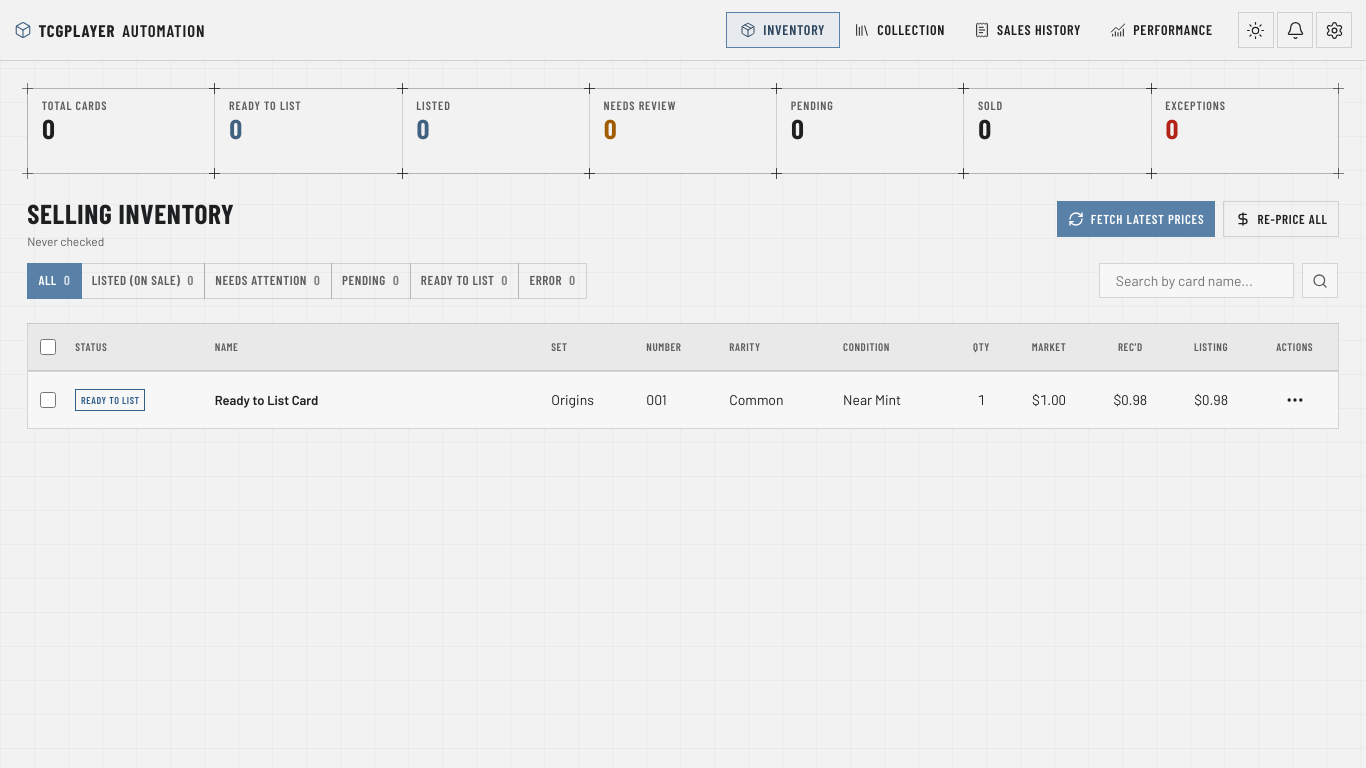
Test case: App record sale + bulk sell integration › Inventory All lets Ready to List cards use the bulk-listing selection control
Expected: the text "Ready to List Card" is shown, [207,371,543,428]
Click the checkbox titled "Select for bulk listing" at {"x": 48, "y": 400}, box [40,392,56,408]
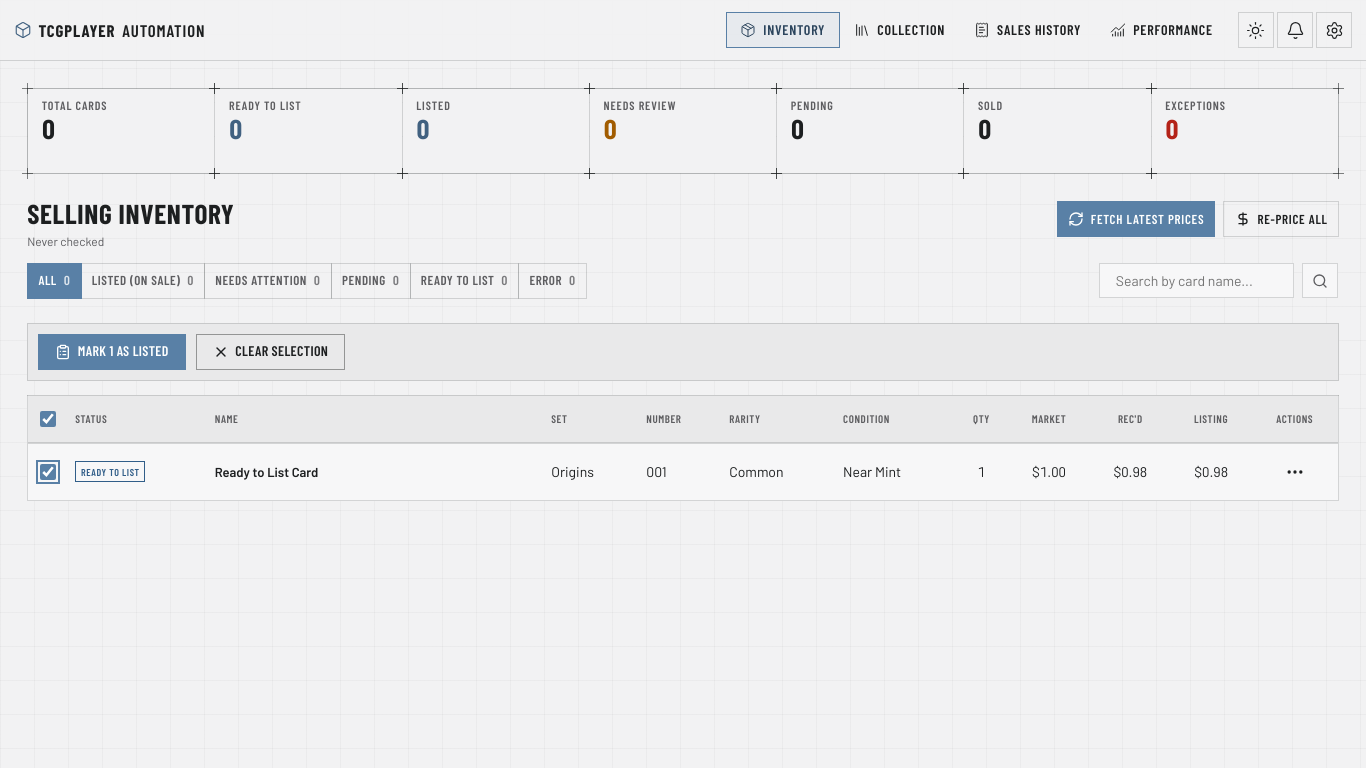
Expected: the button "Mark 1 as Listed" is shown, [38,334,186,370]
